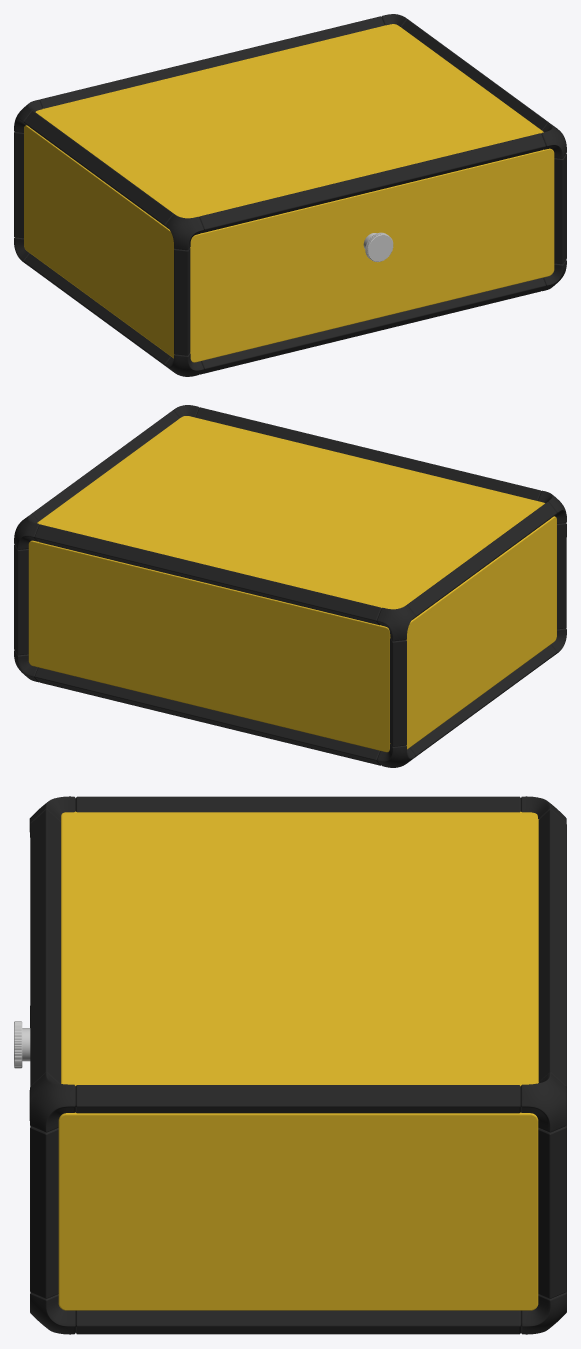
The picture shows the model from 3 angles, top to bottom: view 1: azimuth 30°, elevation 25°; view 2: azimuth 150°, elevation 25°; view 3: azimuth 270°, elevation 25°; orthographic projection. The views are drawn at different scales.
Parts seen in each view (by area): view 1: 523x374x154; view 2: 523x374x154; view 3: 523x374x154.
Part boxes in pixels (x1,y1,x2,y2): 523x374x154: (14,14,566,376); 523x374x154: (14,405,566,767); 523x374x154: (14,796,566,1334).
Size of the model in its own units: 0.6007 by 0.2316 by 0.4646.
